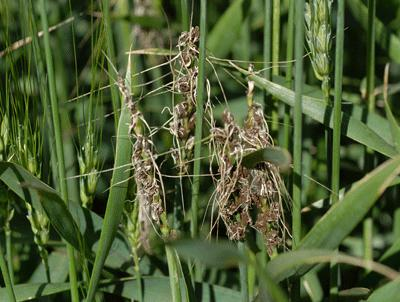Wheat Loose Smut: (161, 44, 290, 244)
